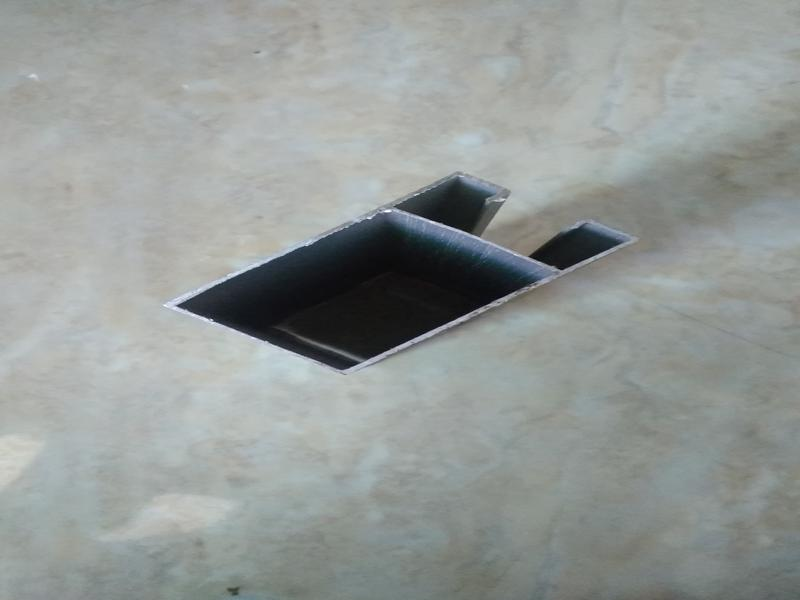Aluminium_1: (156, 146, 665, 403)
